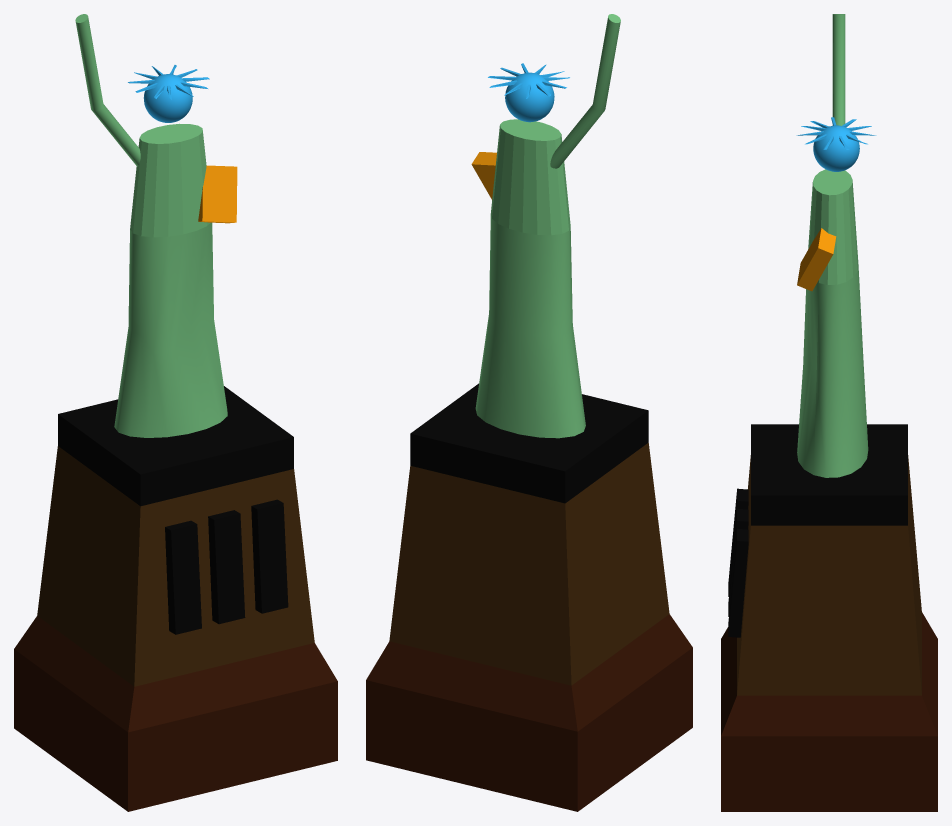
Rendered from liberty.FBX.
The picture shows the model from 3 angles, left to right: view 1: azimuth 30°, elevation 25°; view 2: azimuth 150°, elevation 25°; view 3: azimuth 270°, elevation 25°; orthographic projection. The views are drawn at different scales.
Visible parts, largest first — view 1: Box001, Cylinder001, Box005, Box003, Box004, Sphere001, Cylinder002, Box002; view 2: Box001, Cylinder001, Sphere001, Cylinder002, Box002; view 3: Box001, Cylinder001, Sphere001, Cylinder002, Box005, Box002, Box003, Box004.
Boxes of the visible parts, bbox=[...] form: Box001: bbox=[14, 386, 337, 811]; Cylinder001: bbox=[114, 123, 227, 437]; Box005: bbox=[251, 499, 288, 613]; Box003: bbox=[165, 520, 201, 634]; Box004: bbox=[208, 510, 245, 624]; Sphere001: bbox=[128, 65, 209, 122]; Cylinder002: bbox=[75, 14, 140, 166]; Box002: bbox=[198, 165, 237, 223]; Box001: bbox=[366, 383, 692, 811]; Cylinder001: bbox=[475, 119, 585, 438]; Sphere001: bbox=[488, 63, 569, 122]; Cylinder002: bbox=[550, 14, 620, 168]; Box002: bbox=[471, 152, 496, 199]; Box001: bbox=[721, 424, 937, 811]; Cylinder001: bbox=[797, 169, 868, 477]; Sphere001: bbox=[796, 117, 876, 171]; Cylinder002: bbox=[832, 14, 845, 125]; Box005: bbox=[728, 528, 748, 637]; Box002: bbox=[797, 228, 836, 291]; Box003: bbox=[728, 488, 748, 596]; Box004: bbox=[728, 508, 748, 616].
Size of the model in its own units: 61.33 by 209 by 57.78.
